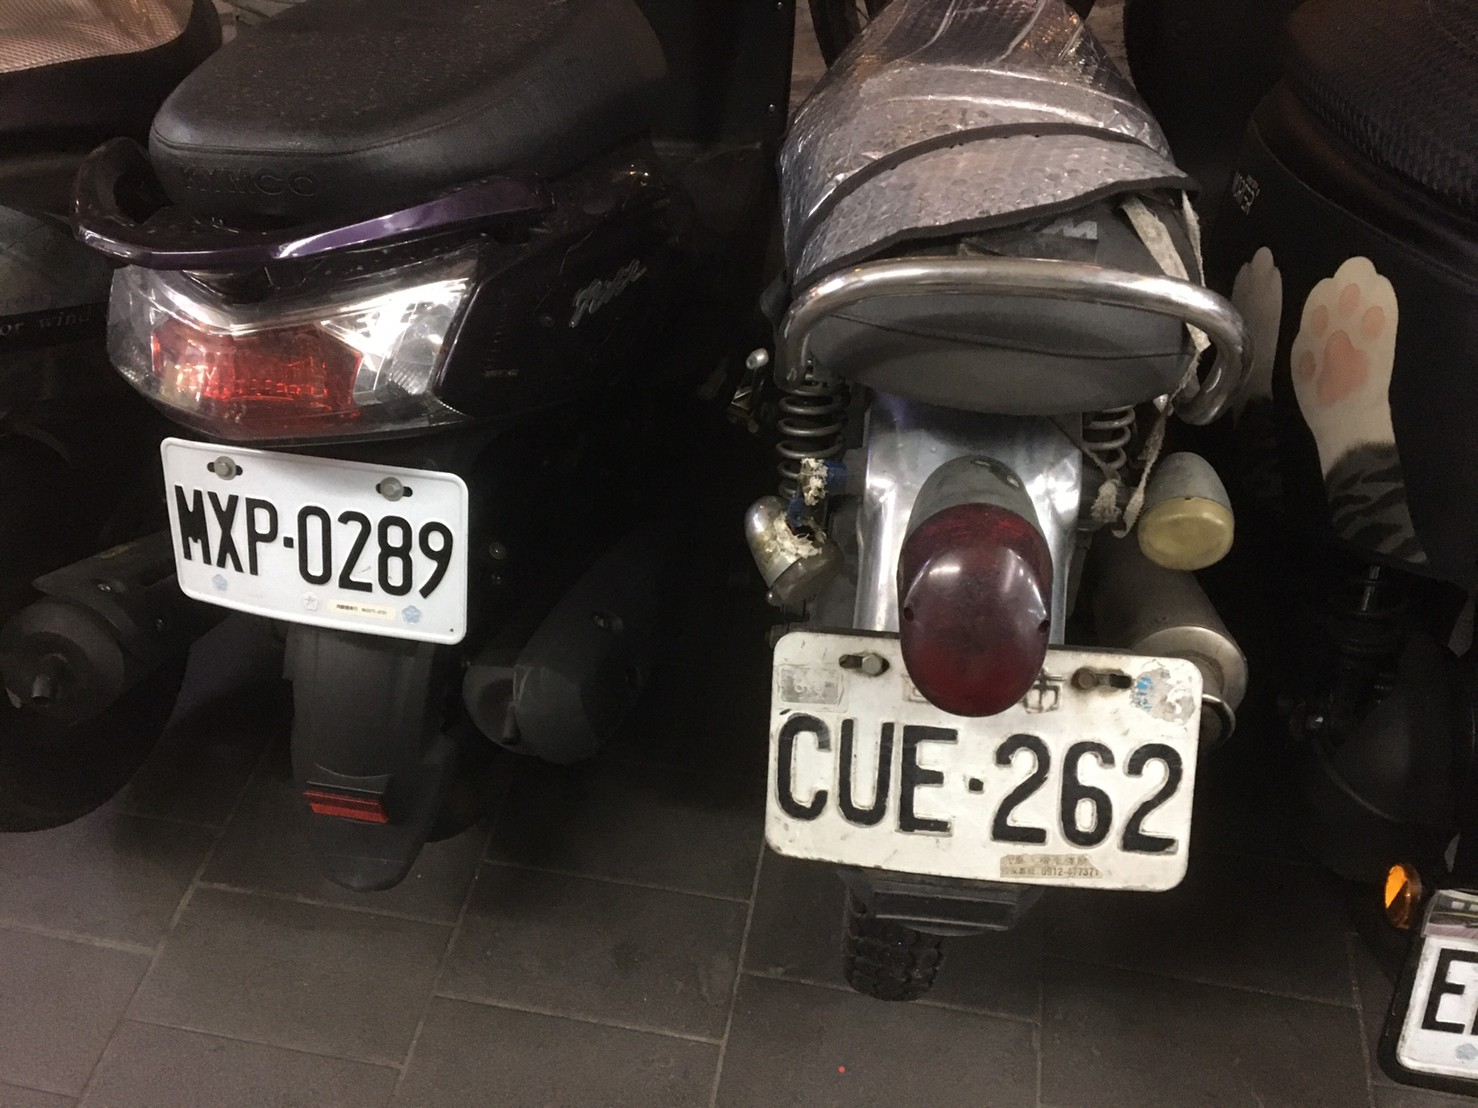LP: (773, 623, 1194, 899), (155, 435, 470, 648)
